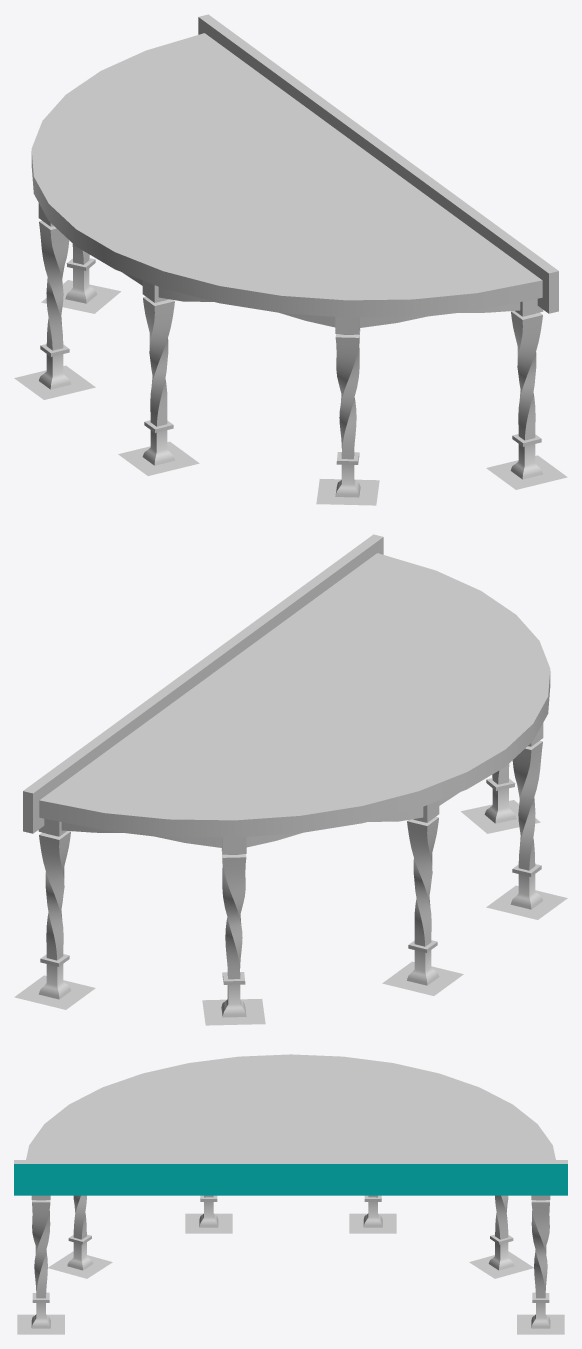
File: HalfTableRoundPBR.fbx
The picture shows the model from 3 angles, top to bottom: view 1: azimuth 30°, elevation 25°; view 2: azimuth 150°, elevation 25°; view 3: azimuth 270°, elevation 25°; orthographic projection. The views are drawn at different scales.
Visible parts, largest first — view 1: ground_copy_low; view 2: ground_copy_low; view 3: ground_copy_low.
Boxes of the visible parts, x1,y1,x2,y2 form: ground_copy_low: [14, 14, 567, 505]; ground_copy_low: [14, 534, 567, 1025]; ground_copy_low: [14, 1054, 567, 1334].
Bounding box in the file's own units: 140 × 88.1 × 266.
